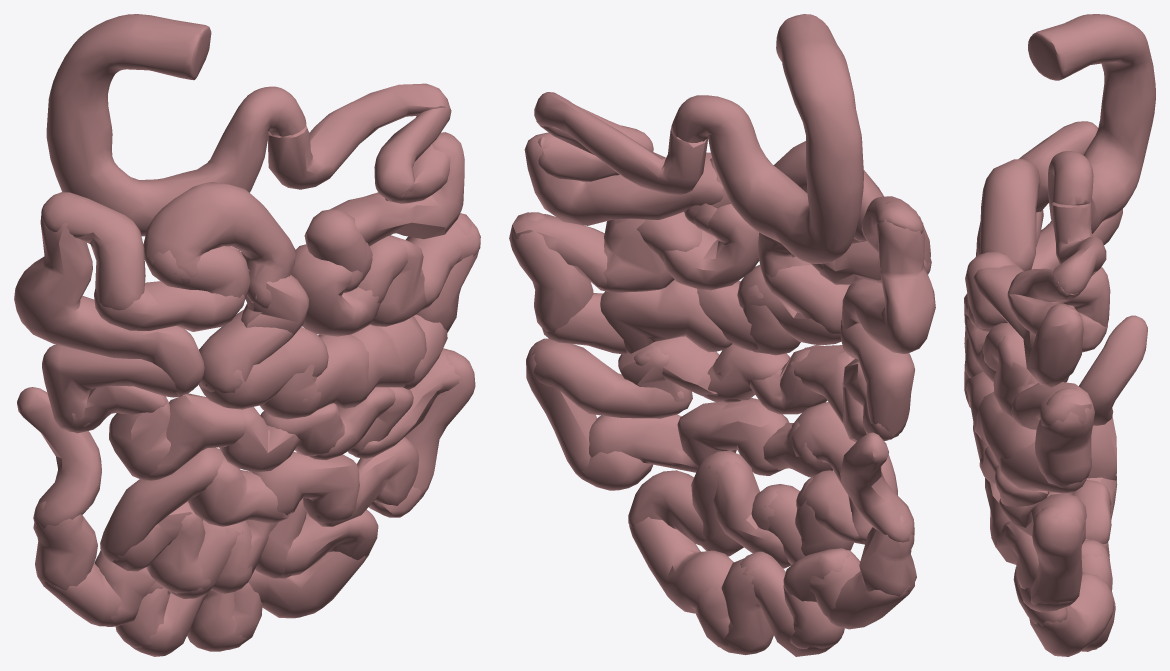
File: small-intestine.glb
The picture shows the model from 3 angles, left to right: view 1: azimuth 30°, elevation 25°; view 2: azimuth 150°, elevation 25°; view 3: azimuth 270°, elevation 25°; orthographic projection. The views are drawn at different scales.
Visible parts, largest first — view 1: small_intestine_jejunum, small_intestine_ileum, small_intestine_duodenum; view 2: small_intestine_ileum, small_intestine_jejunum, small_intestine_duodenum; view 3: small_intestine_jejunum, small_intestine_ileum, small_intestine_duodenum.
Boxes of the visible parts, left/top/right/bottom form: small_intestine_jejunum: left=14, top=83, right=480, bottom=419; small_intestine_ileum: left=17, top=344, right=475, bottom=656; small_intestine_duodenum: left=46, top=14, right=306, bottom=236; small_intestine_ileum: left=526, top=320, right=916, bottom=656; small_intestine_jejunum: left=509, top=92, right=935, bottom=355; small_intestine_duodenum: left=671, top=14, right=863, bottom=263; small_intestine_jejunum: left=964, top=121, right=1122, bottom=493; small_intestine_ileum: left=973, top=267, right=1147, bottom=656; small_intestine_duodenum: left=1028, top=14, right=1155, bottom=233.
Bounding box in the file's own units: 0.1937 × 0.2718 × 0.0795.
